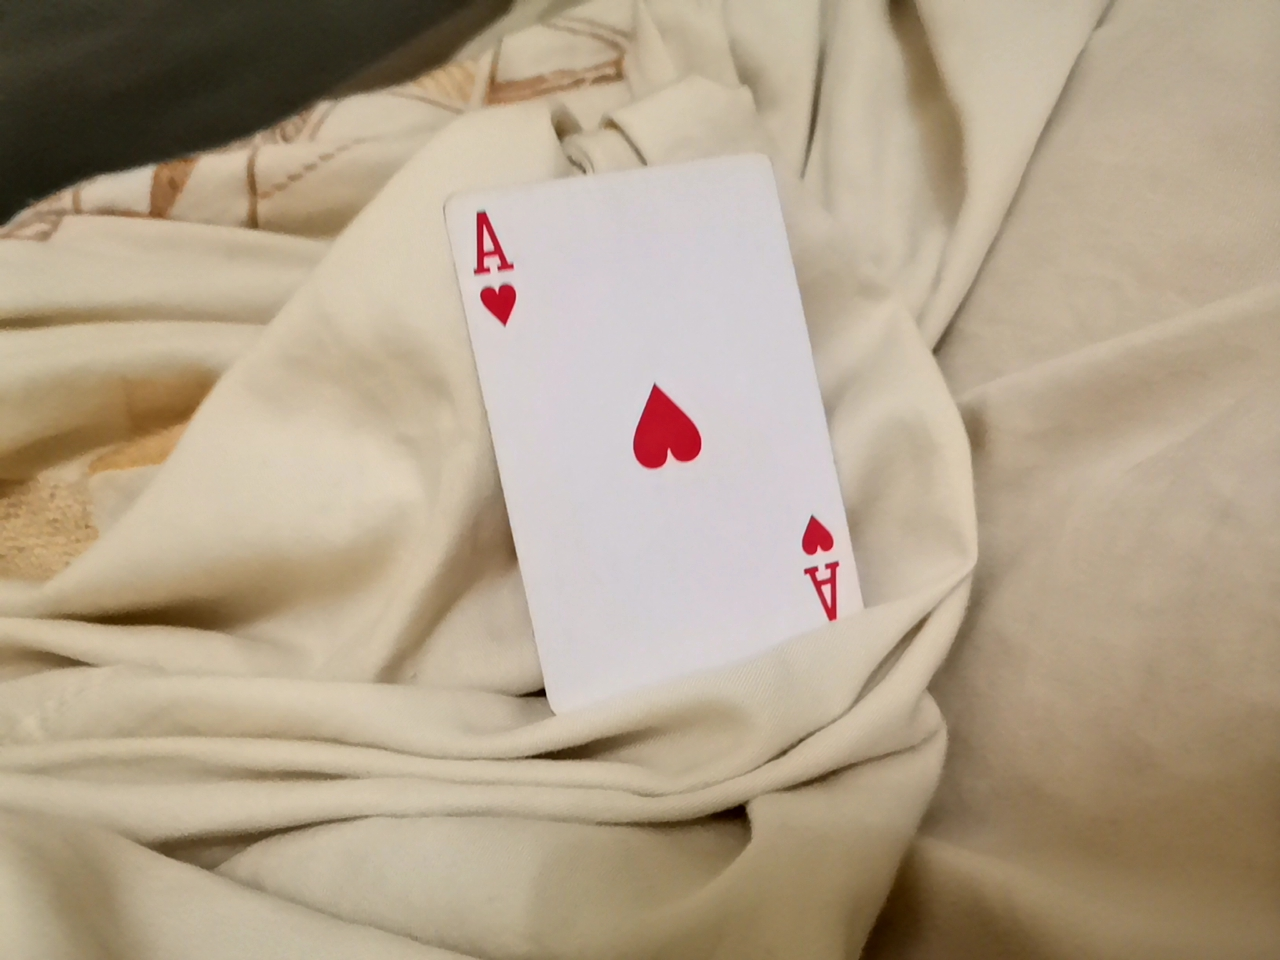hx a: (423, 144, 874, 744)
